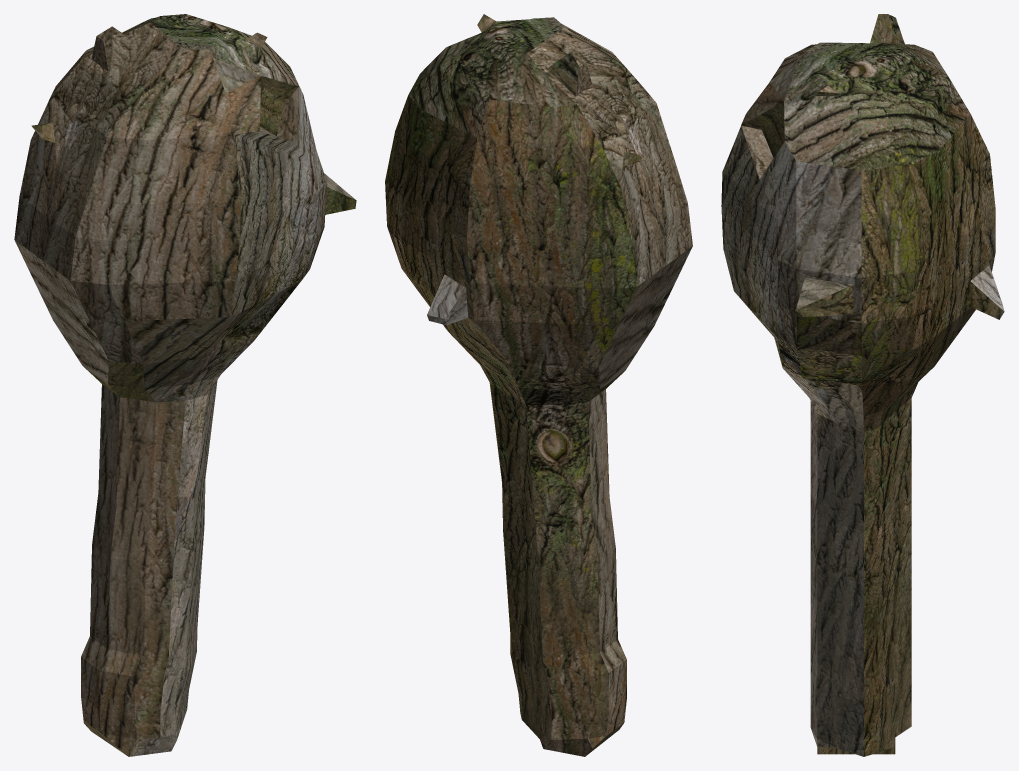
The model's file is WoddenClub.fbx.
3 renders of one model, left to right at view 1: azimuth 30°, elevation 25°; view 2: azimuth 150°, elevation 25°; view 3: azimuth 270°, elevation 25°, orthographic. The views are drawn at different scales.
Parts seen in each view (by area): view 1: WoodenMace; view 2: WoodenMace; view 3: WoodenMace.
Part boxes in pixels (x1=…): WoodenMace: x1=14, y1=14, x2=356, y2=756; WoodenMace: x1=385, y1=14, x2=692, y2=756; WoodenMace: x1=721, y1=14, x2=1004, y2=756.
Size of the model in its own units: 121 by 289 by 102.
Materials: 1 (1 with a texture image).
